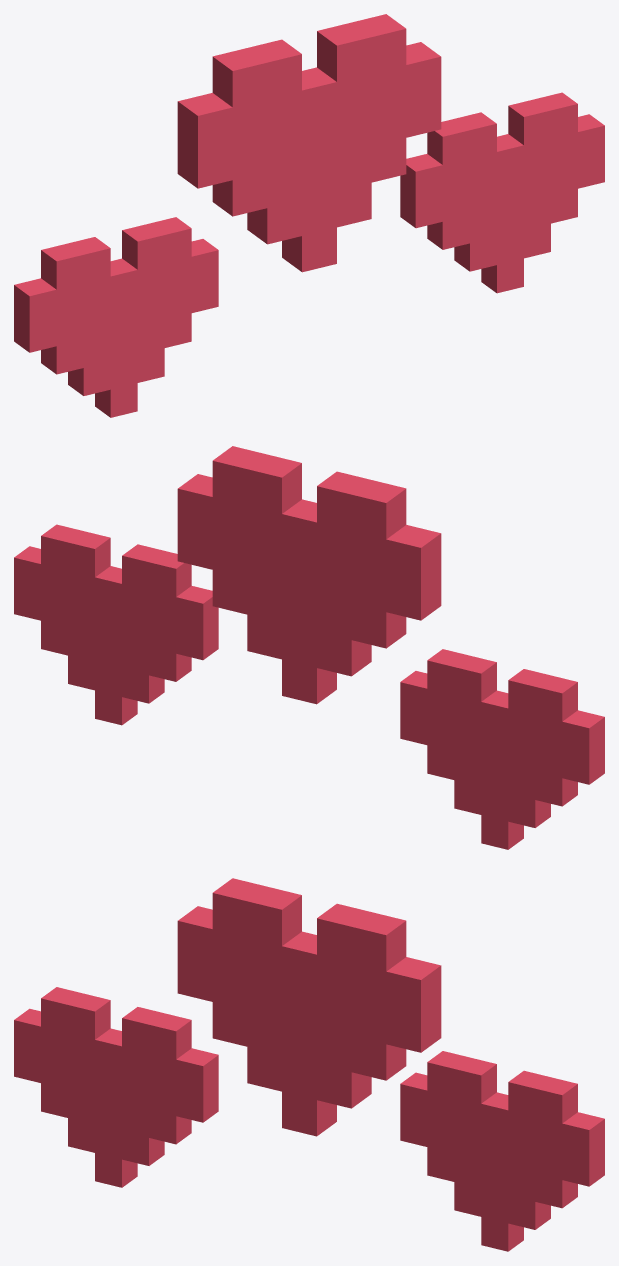
Rendered from hearts.gltf.
3 renders of one model, top to bottom at view 1: azimuth 30°, elevation 25°; view 2: azimuth 150°, elevation 25°; view 3: azimuth 330°, elevation 25°, orthographic.
Visible parts, largest first — view 1: hearts; view 2: hearts; view 3: hearts.
Part boxes in pixels (x1,y1,x2,y2): hearts: [14, 14, 604, 417]; hearts: [14, 446, 604, 849]; hearts: [14, 878, 604, 1251].
Bounding box in the file's own units: 0.596 × 0.316 × 0.036.
